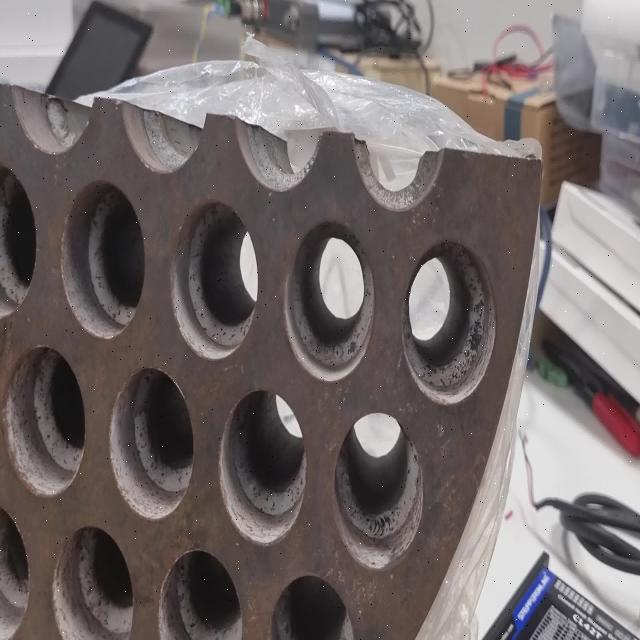Hole: (402, 238, 496, 406), (284, 219, 376, 381), (333, 414, 424, 570), (170, 200, 258, 361), (219, 387, 306, 546), (60, 180, 144, 340), (109, 366, 193, 522), (3, 345, 86, 497), (52, 523, 134, 639), (158, 547, 241, 639), (0, 164, 38, 318), (269, 571, 355, 639)
